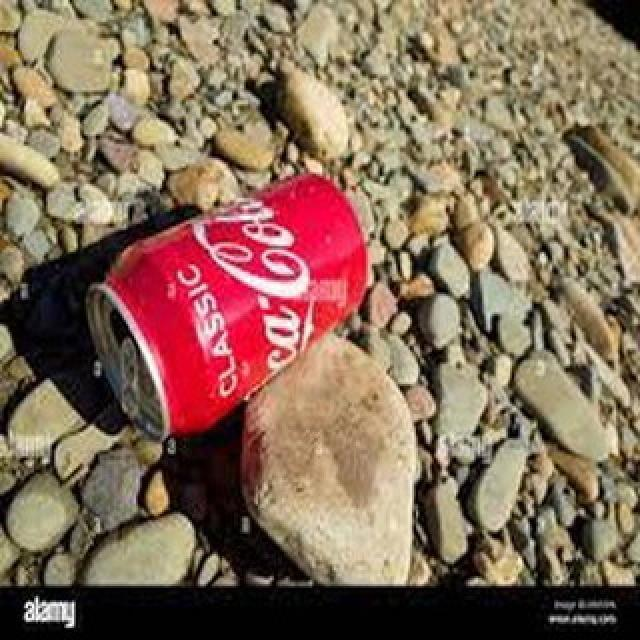can: (87, 172, 370, 442)
